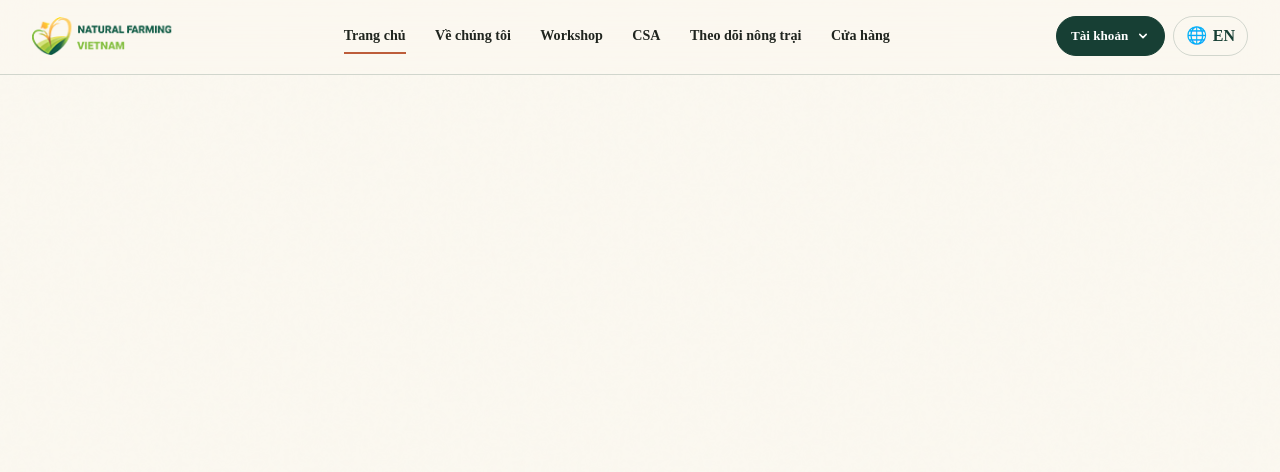
Test case: site header session projection › formats the Vietnamese identity and balance
This screenshot has width=1280, height=472.
Click the button "Tài khoản".
click(1111, 36)  # box [1056,16,1165,56]
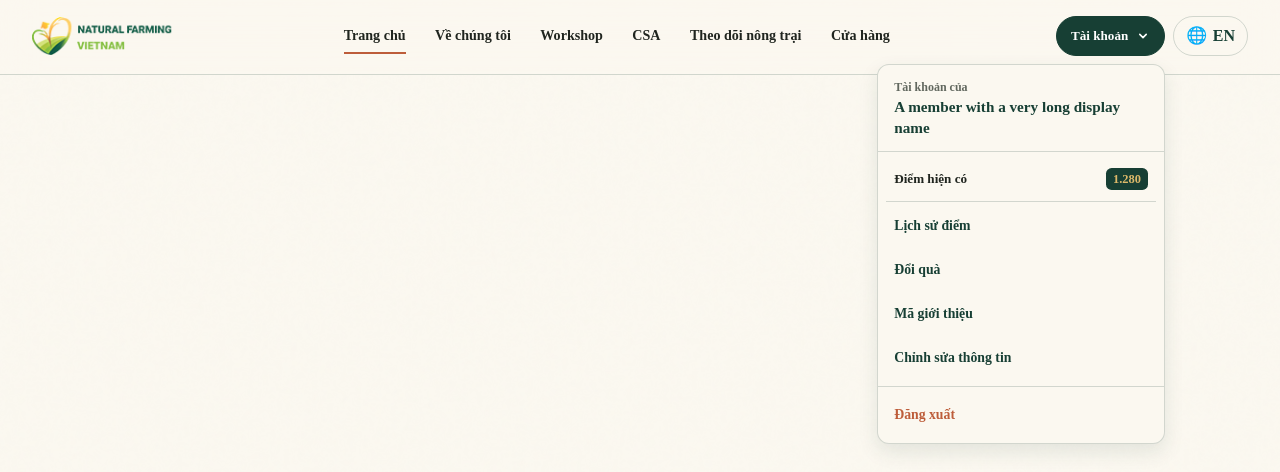
Expected: the text "Tài khoản của" is shown, [894,80,968,94]
Expected: the text "A member with a very long display name" is shown, [894,97,1148,138]
Expected: the text "1.280" is shown, [1106,168,1148,190]
